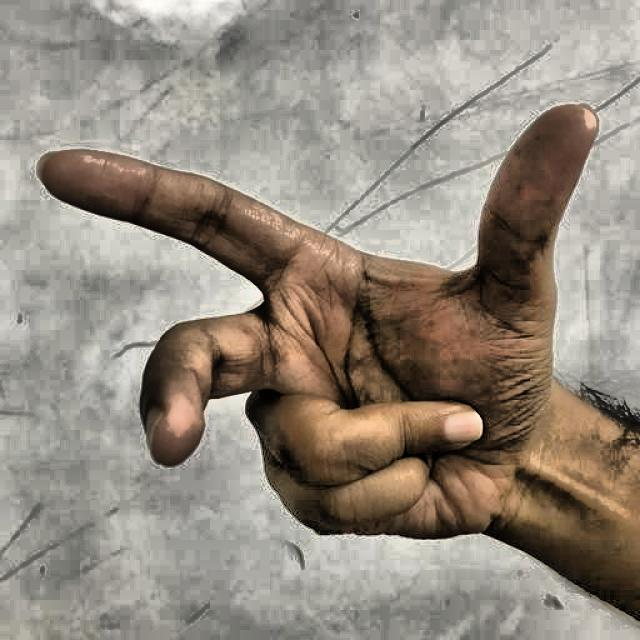Da: (21, 41, 610, 604)
